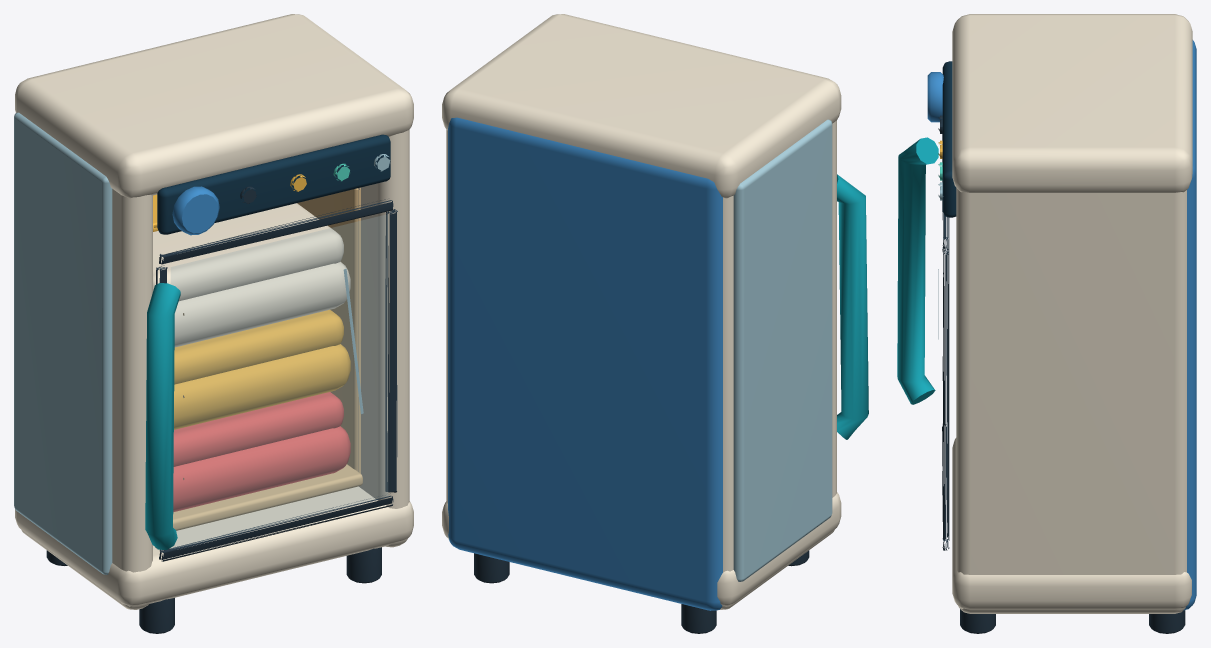
The model's file is ThermaNest_standard.glb.
The picture shows the model from 3 angles, left to right: view 1: azimuth 30°, elevation 25°; view 2: azimuth 150°, elevation 25°; view 3: azimuth 270°, elevation 25°; orthographic projection. The views are drawn at different scales.
Parts seen in each view (by area): view 1: Static_CRNA_Gameplay_Atlas_PBR.001, Static_CRNA_Readable_Glass_Alpha.001; view 2: Static_CRNA_Gameplay_Atlas_PBR.001; view 3: Static_CRNA_Gameplay_Atlas_PBR.001.
Boxes of the visible parts, bbox=[...] form: Static_CRNA_Gameplay_Atlas_PBR.001: bbox=[14, 14, 413, 633]; Static_CRNA_Readable_Glass_Alpha.001: bbox=[171, 214, 387, 548]; Static_CRNA_Gameplay_Atlas_PBR.001: bbox=[442, 14, 868, 633]; Static_CRNA_Gameplay_Atlas_PBR.001: bbox=[897, 14, 1196, 633].
Size of the model in its own units: 0.8126 by 1.26 by 0.6914.
2 materials, 1 textured.
